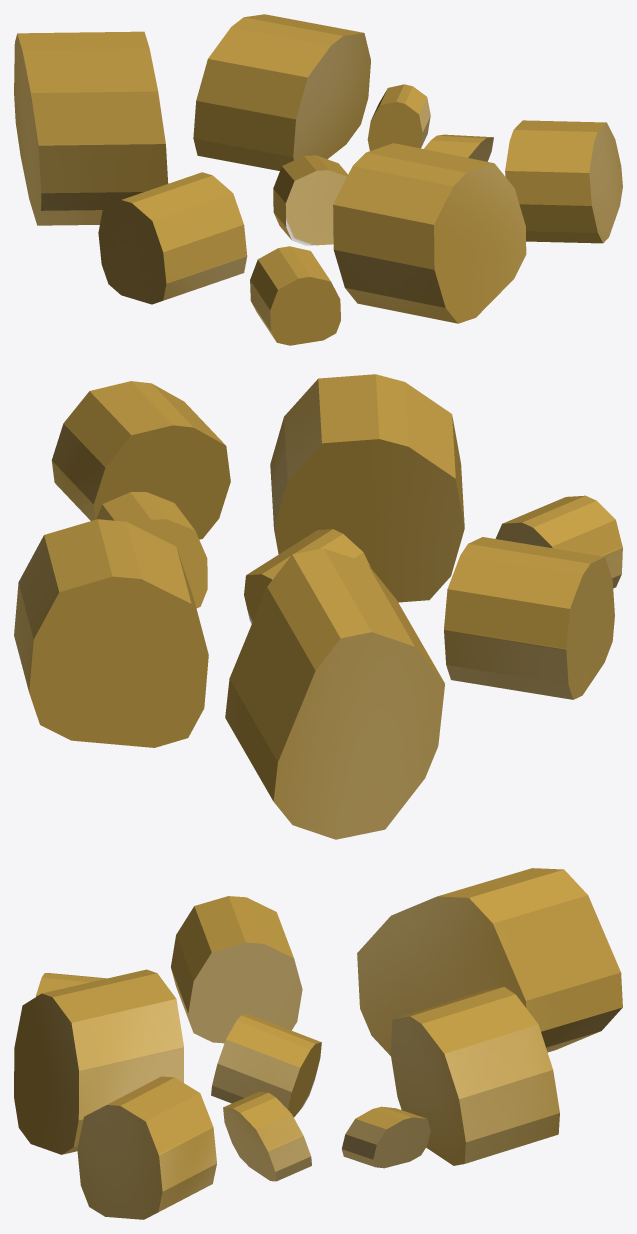
The model's file is platano picado.fbx.
The picture shows the model from 3 angles, top to bottom: view 1: azimuth 30°, elevation 25°; view 2: azimuth 150°, elevation 25°; view 3: azimuth 270°, elevation 25°; orthographic projection. The views are drawn at different scales.
Visible parts, largest first — view 1: Cube.005; view 2: Cube.005; view 3: Cube.005.
Boxes of the visible parts, x1=… form: Cube.005: x1=14, y1=14, x2=622, y2=345; Cube.005: x1=14, y1=374, x2=622, y2=839; Cube.005: x1=14, y1=868, x2=622, y2=1219.
Bounding box in the file's own units: 71.31 × 26.95 × 75.32.
1 material, 1 textured.
